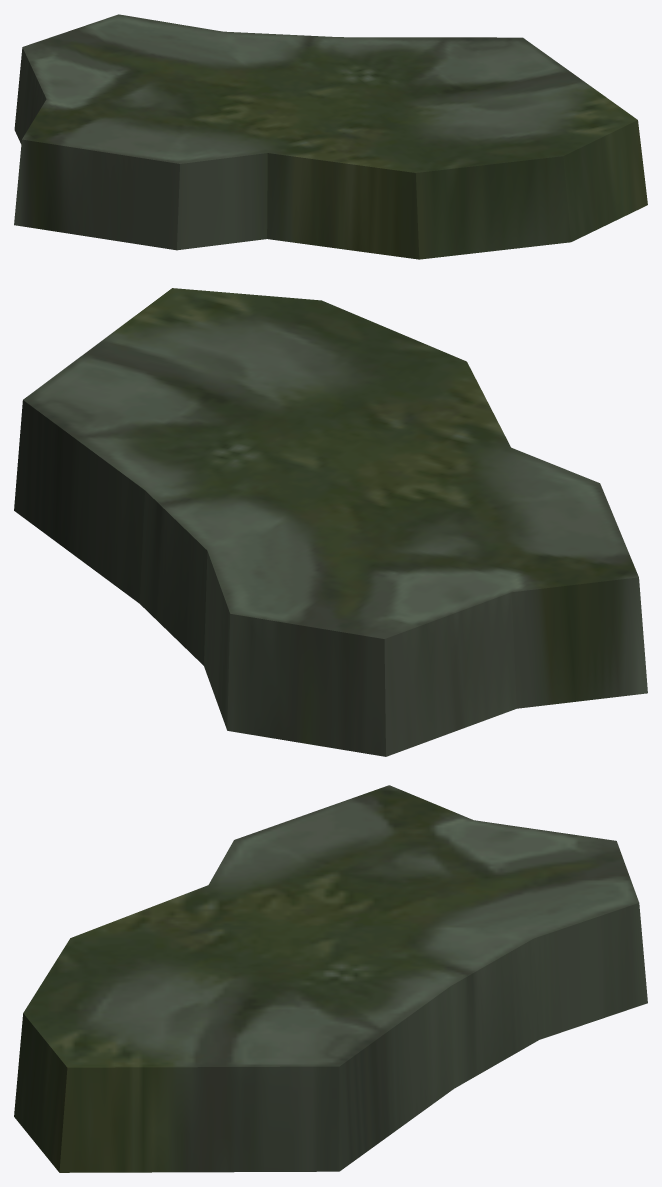
Rendered from yw_newshanlin_manholesuipian_005.FBX.
The picture shows the model from 3 angles, top to bottom: view 1: azimuth 30°, elevation 25°; view 2: azimuth 150°, elevation 25°; view 3: azimuth 270°, elevation 25°; orthographic projection. The views are drawn at different scales.
Parts seen in each view (by area): view 1: yw_newshanlin_manholesuipian_005; view 2: yw_newshanlin_manholesuipian_005; view 3: yw_newshanlin_manholesuipian_005.
Part boxes in pixels (<box>): yw_newshanlin_manholesuipian_005: <box>14,14,647,259</box>; yw_newshanlin_manholesuipian_005: <box>14,288,647,756</box>; yw_newshanlin_manholesuipian_005: <box>14,785,647,1172</box>.
Bounding box in the file's own units: 223 × 205 × 36.2.
